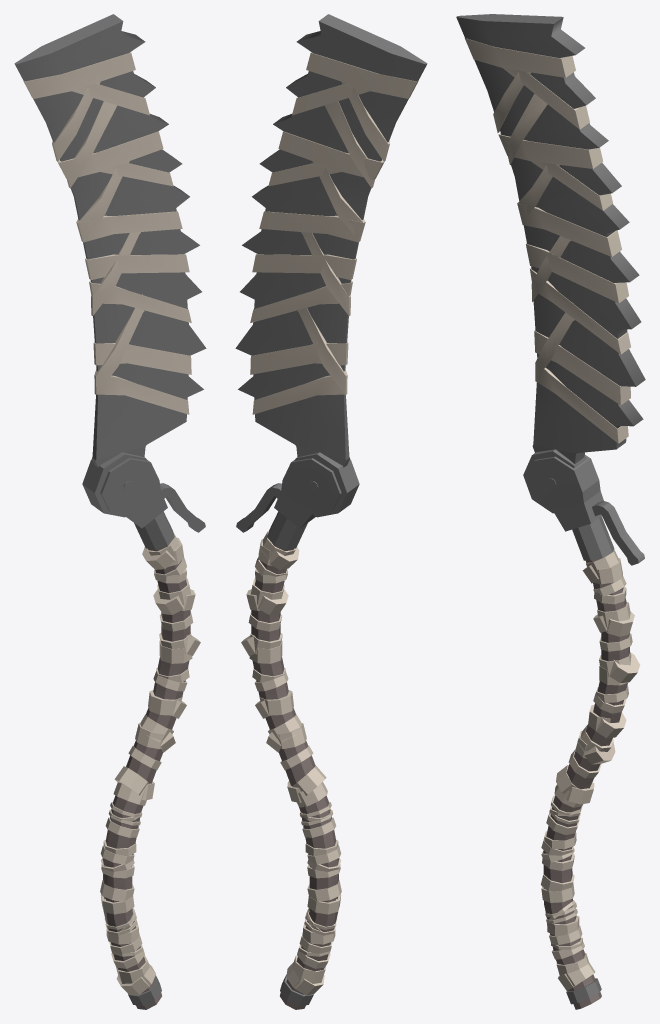
File: Saw Cleaver Extended 1.fbx
The picture shows the model from 3 angles, left to right: view 1: azimuth 30°, elevation 25°; view 2: azimuth 150°, elevation 25°; view 3: azimuth 330°, elevation 25°; orthographic projection.
Parts seen in each view (by area): view 1: pCylinder145; view 2: pCylinder145; view 3: pCylinder145.
Boxes of the visible parts, x1,y1,x2,y2 form: pCylinder145: [14, 14, 206, 1009]; pCylinder145: [235, 14, 427, 1009]; pCylinder145: [456, 14, 645, 1009].
Size of the model in its own units: 7.03 by 35.68 by 1.17.
